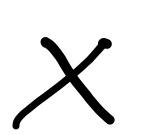mult: (13, 37, 115, 129)
